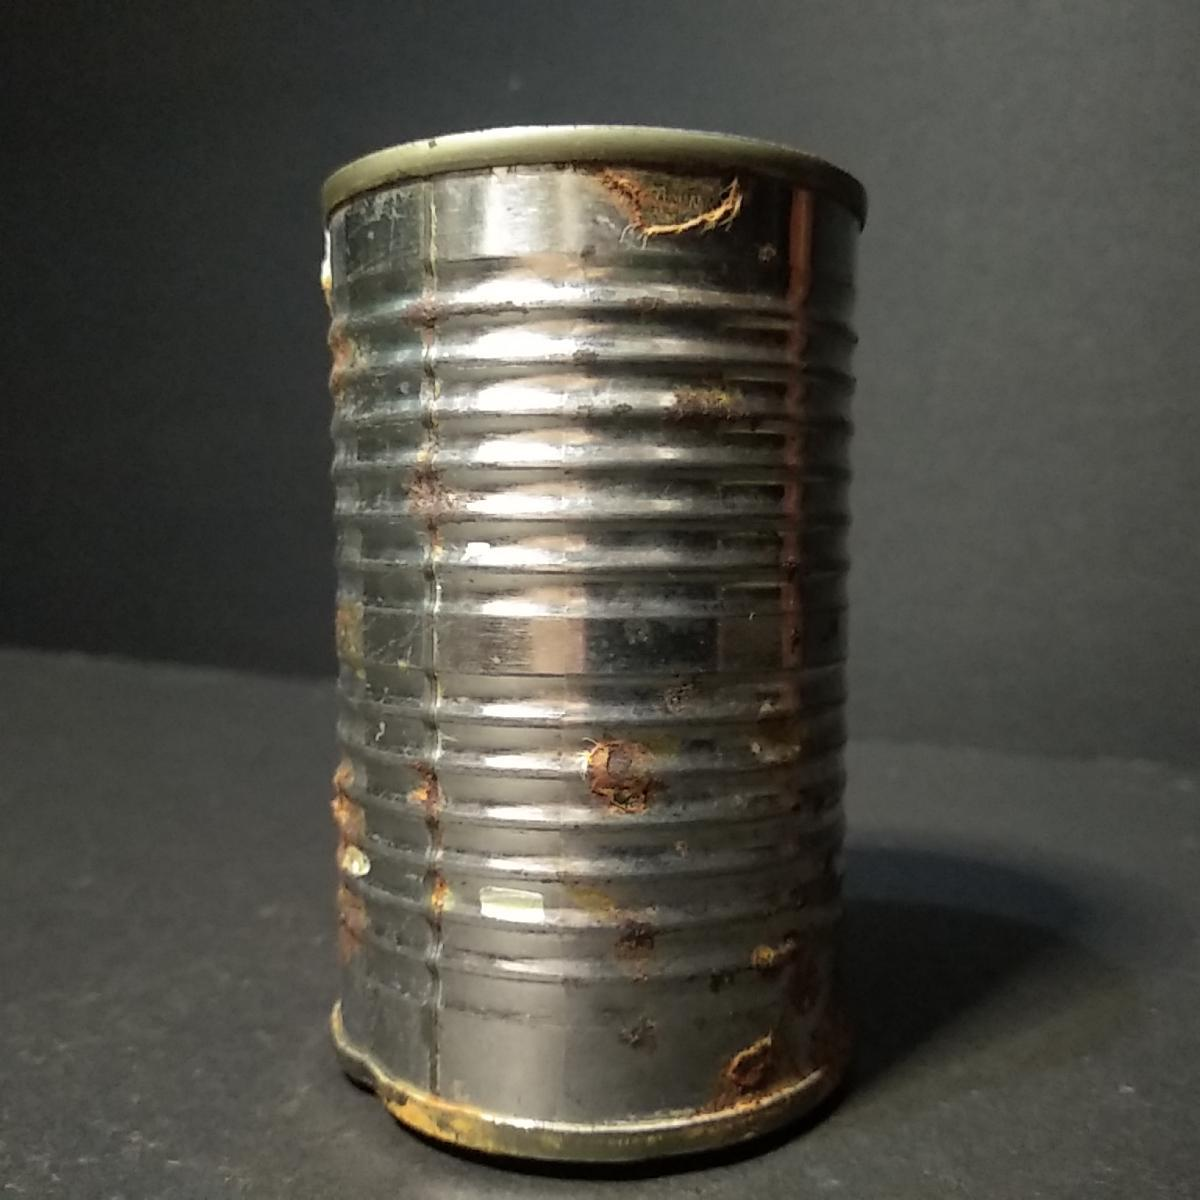Rusted: (284, 105, 880, 1188)
